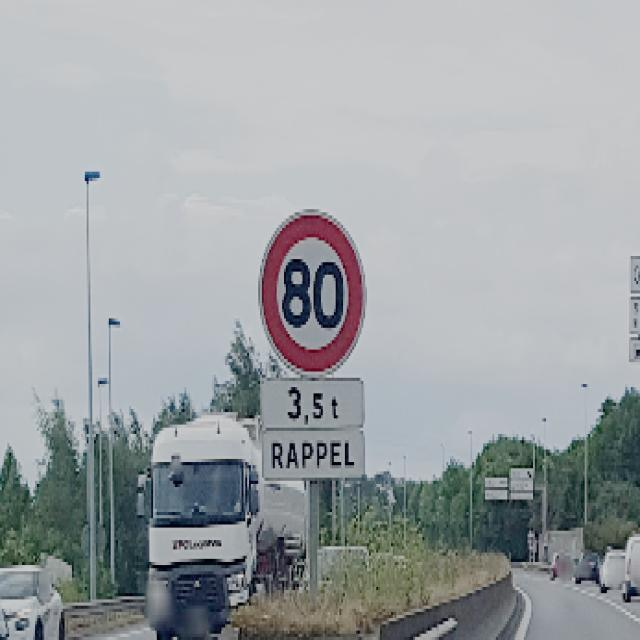speed_80: (256, 206, 368, 378)
